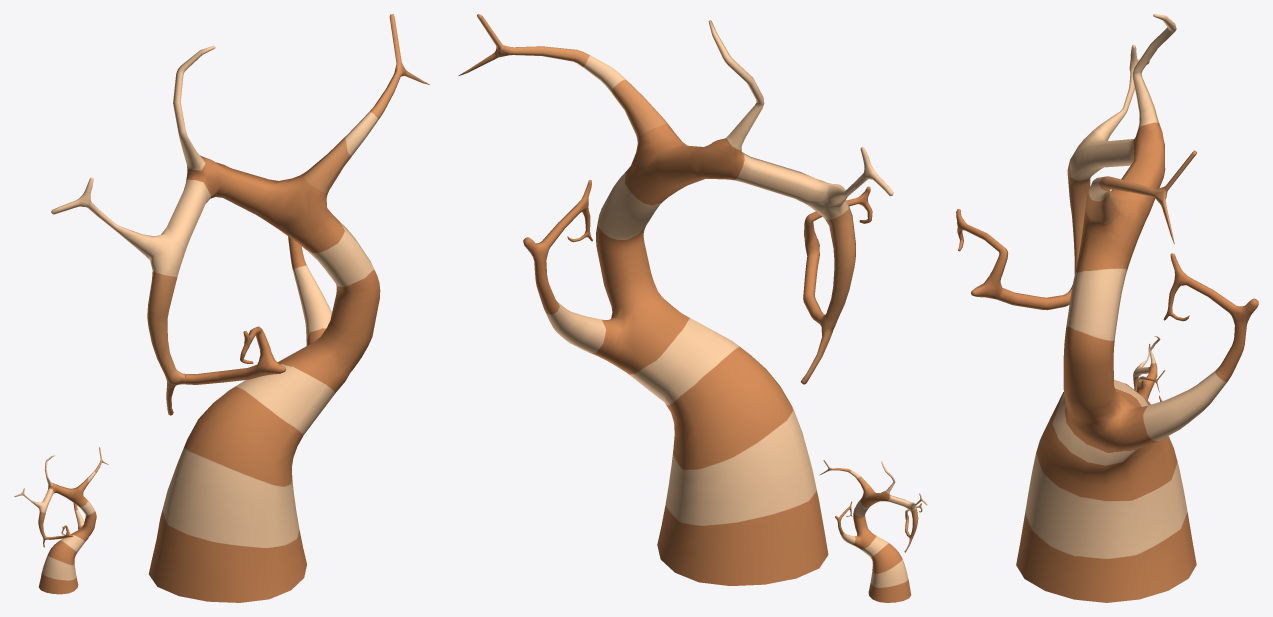
Rendered from curved-fairy-tree.glb.
3 renders of one model, left to right at view 1: azimuth 30°, elevation 25°; view 2: azimuth 150°, elevation 25°; view 3: azimuth 270°, elevation 25°, orthographic. The views are drawn at different scales.
Visible parts, largest first — view 1: tree_02 04_tree 02_04_0.001, tree_02 04; view 2: tree_02 04_tree 02_04_0.001, tree_02 04; view 3: tree_02 04_tree 02_04_0.001, tree_02 04.
Part boxes in pixels (x1,y1,x2,y2): tree_02 04_tree 02_04_0.001: (51, 14, 429, 602); tree_02 04: (14, 447, 108, 594); tree_02 04_tree 02_04_0.001: (458, 14, 893, 585); tree_02 04: (819, 460, 927, 602); tree_02 04_tree 02_04_0.001: (956, 14, 1258, 602); tree_02 04: (1133, 336, 1165, 401).
Size of the model in its own units: 1.08 by 1.22 by 0.6037.
Materials: 2 (2 with a texture image).
